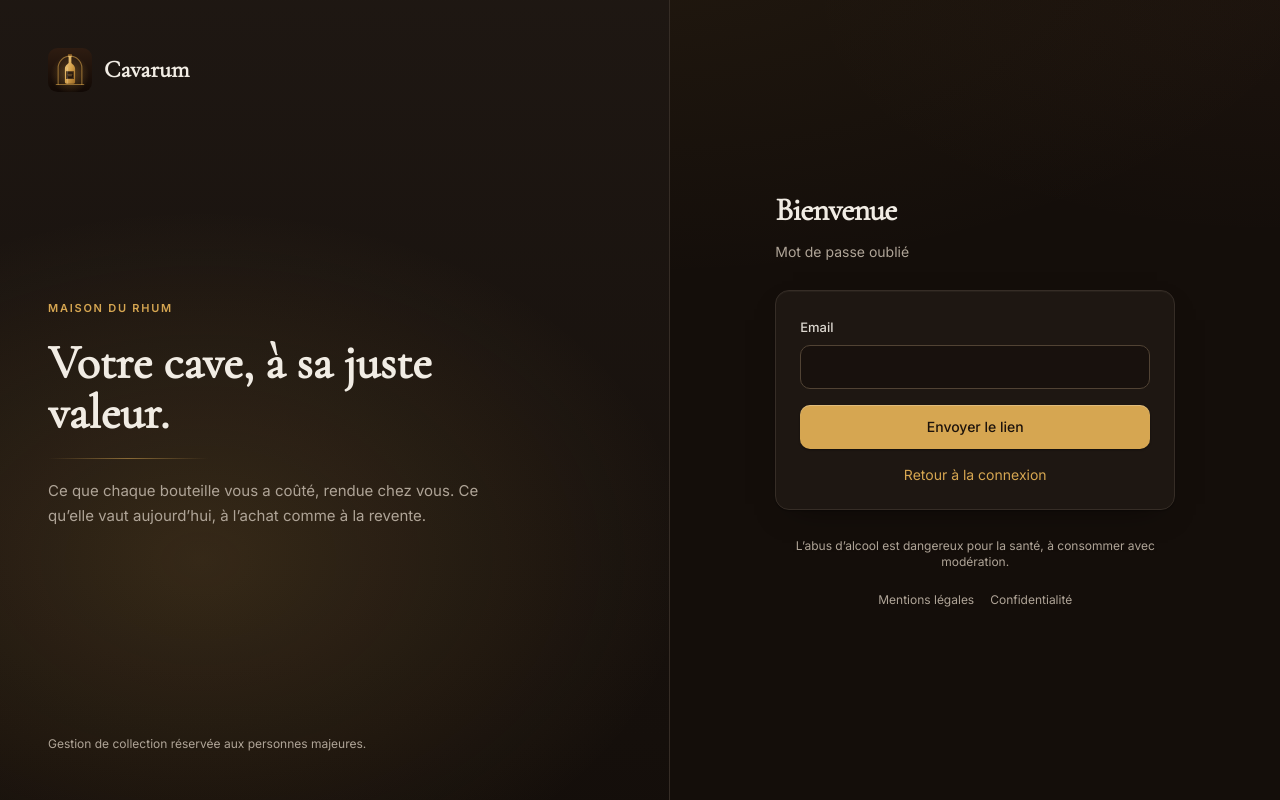
Test: ForgotPasswordPage › envoie le lien et confirme sans révéler si le compte existe
This screenshot has width=1280, height=800.
Step 1. Type "fred@example.com" into the field labelled "Email" → (975, 367), box [800,345,1150,389]
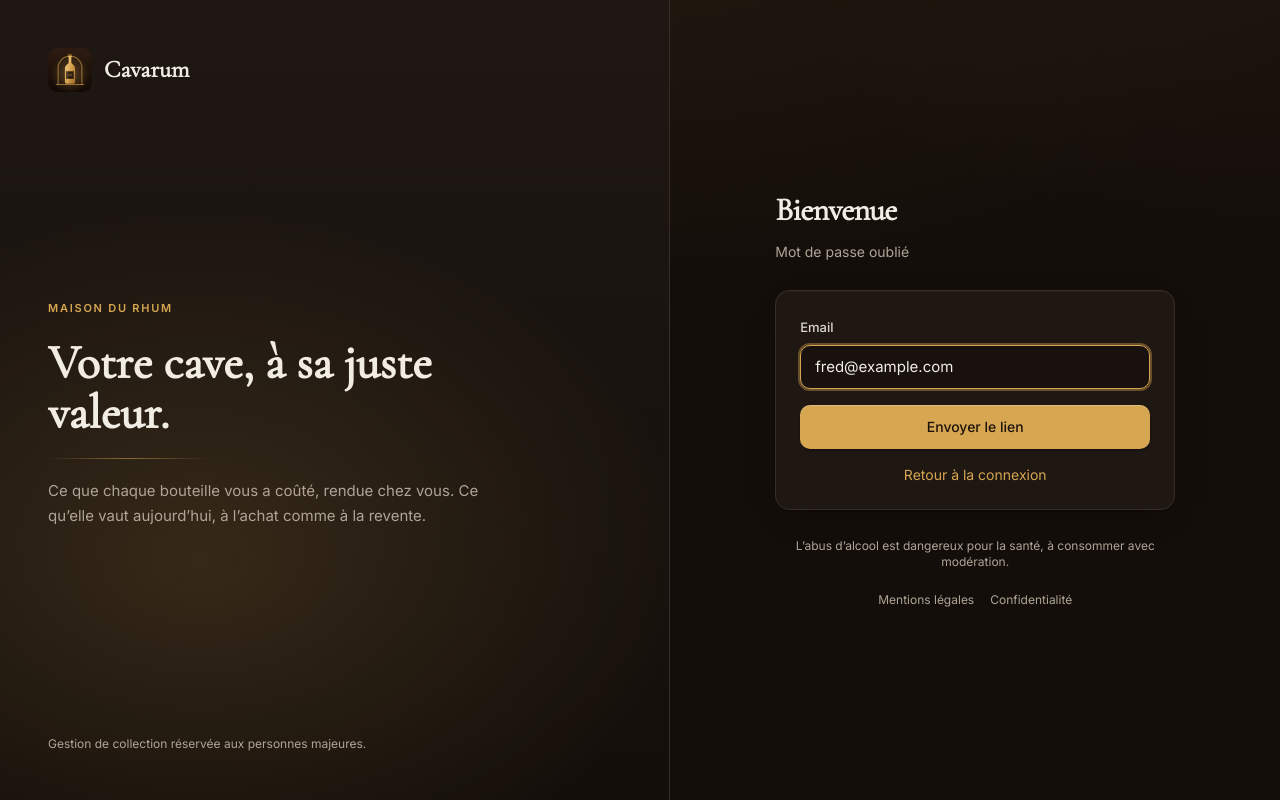
Step 2. Click the button "Envoyer le lien" → (975, 427), box [800,405,1150,449]
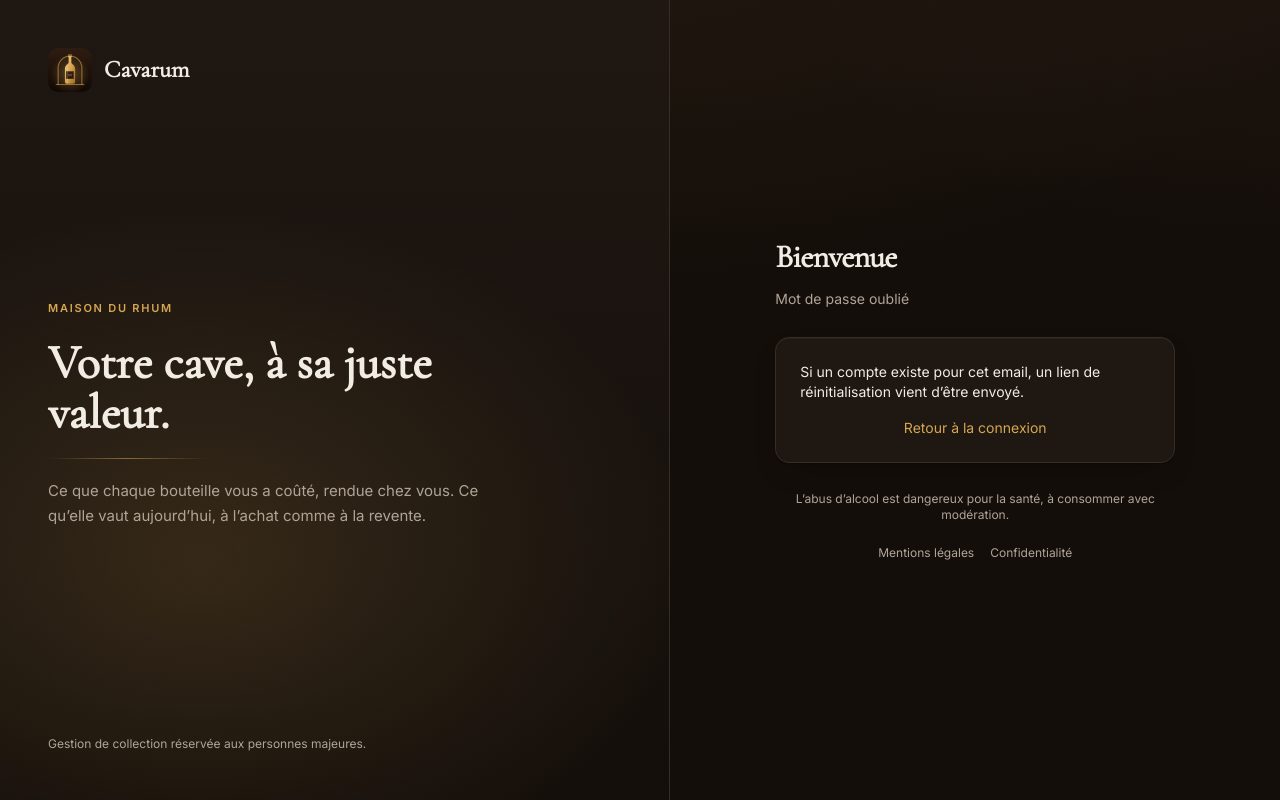
expect the text "Si un compte existe pour cet email" is shown: met, box [800,363,1100,400]
